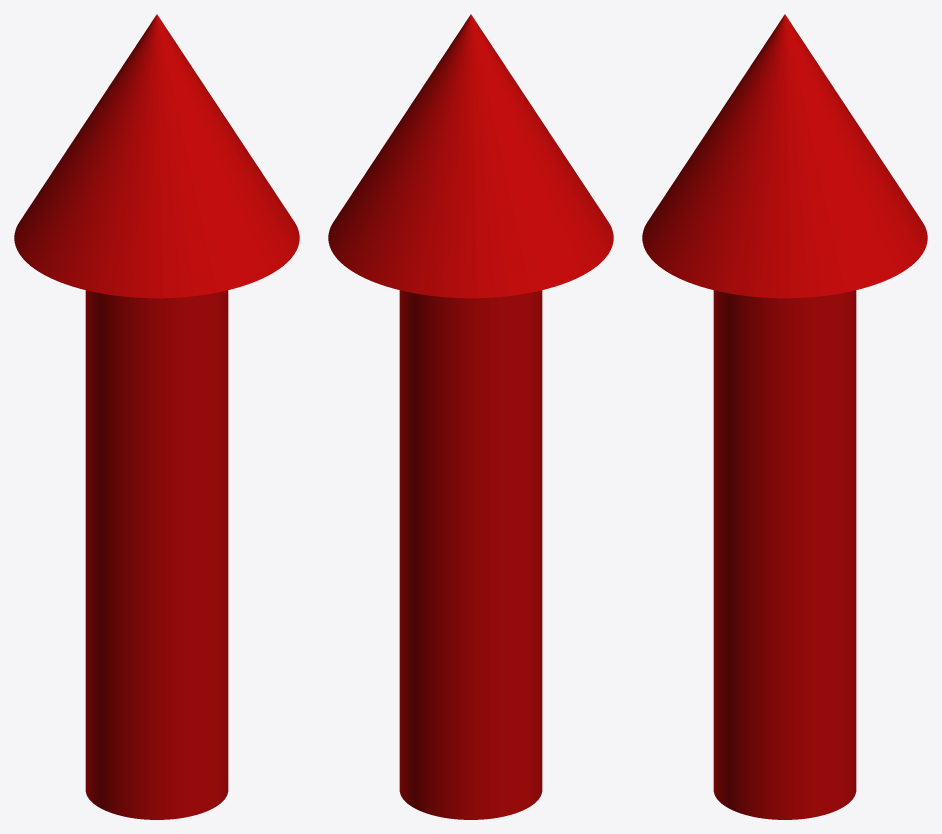
Rendered from arrow.obj.
The picture shows the model from 3 angles, left to right: view 1: azimuth 30°, elevation 25°; view 2: azimuth 150°, elevation 25°; view 3: azimuth 270°, elevation 25°; orthographic projection.
Parts seen in each view (by area): view 1: Arrow; view 2: Arrow; view 3: Arrow.
Part boxes in pixels (x1,y1,x2,y2): Arrow: [14, 14, 299, 819]; Arrow: [328, 14, 613, 819]; Arrow: [642, 14, 927, 819].
Size of the model in its own units: 20 by 60 by 20.
